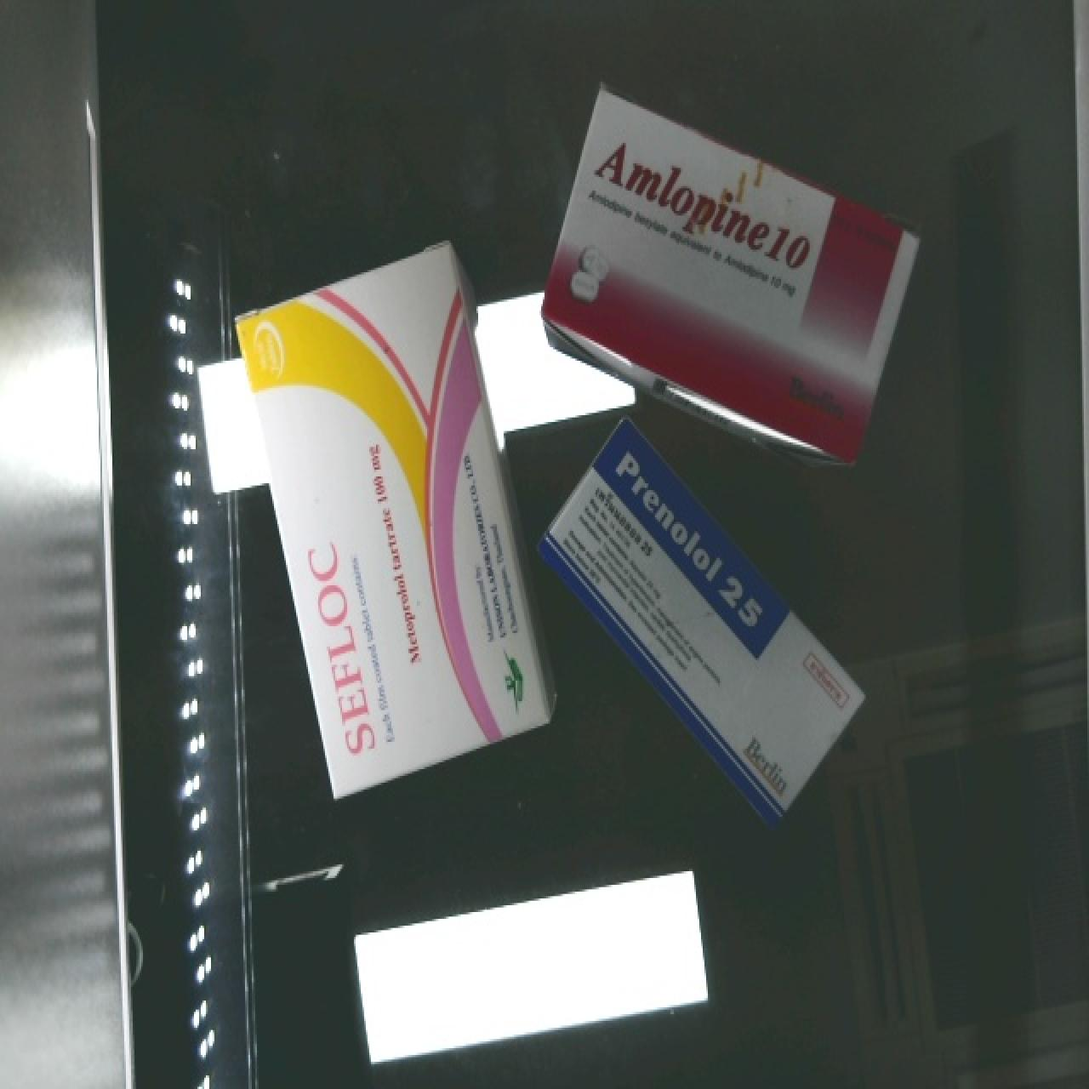medicine_label_obb: (562, 118, 841, 307), (585, 419, 795, 653), (288, 521, 398, 779)
